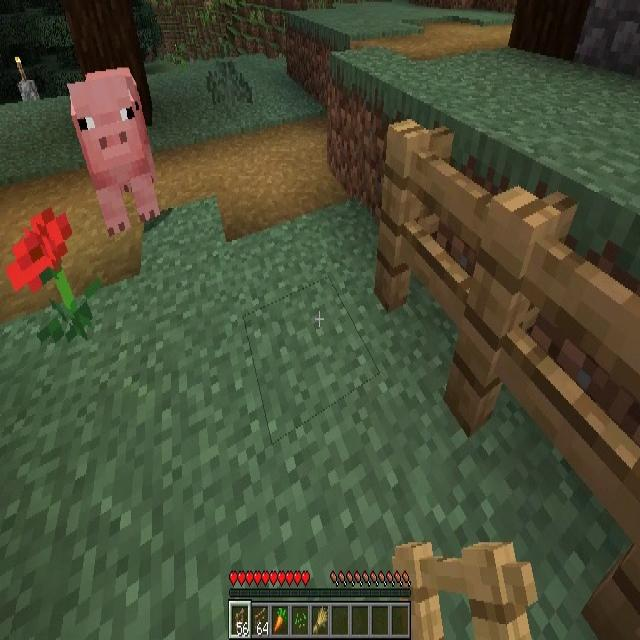pig: (71, 72, 159, 231)
